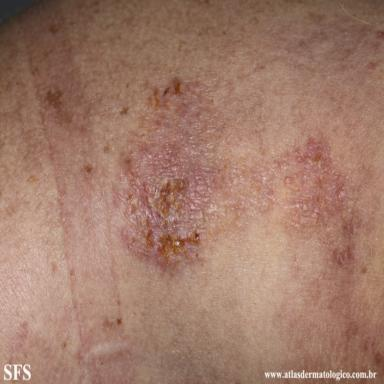Hailey-Hailey-Disease: (109, 75, 363, 310)
